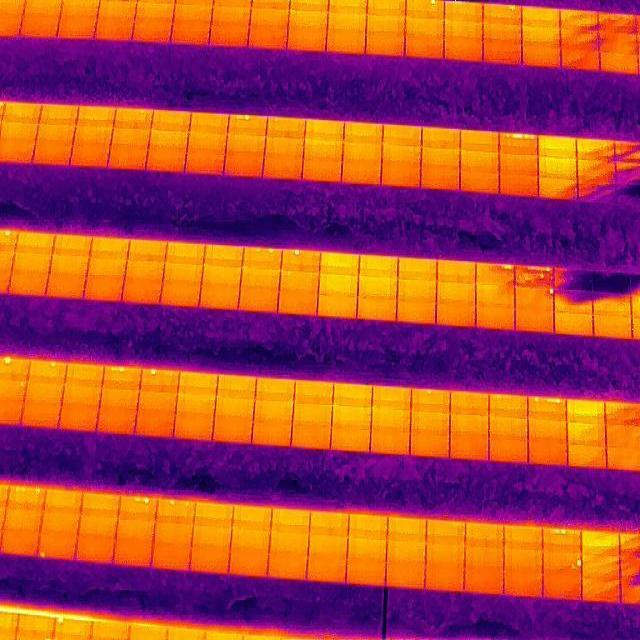Cell: (37, 532, 78, 558), (27, 357, 66, 382), (515, 285, 554, 309), (140, 368, 179, 392), (281, 250, 322, 272), (411, 390, 450, 412), (483, 2, 521, 24), (267, 118, 306, 138), (281, 272, 319, 292), (54, 620, 92, 640), (406, 0, 445, 19)
Cell-Multi: (4, 486, 45, 512), (543, 526, 582, 552), (475, 261, 515, 285), (515, 266, 555, 288), (118, 498, 158, 520), (156, 500, 196, 522), (102, 366, 140, 389), (543, 552, 582, 574), (529, 399, 567, 420), (499, 134, 538, 154), (242, 248, 281, 268)
No-Anomaly: (252, 420, 292, 448), (269, 550, 307, 579), (152, 542, 191, 570), (230, 546, 269, 574), (146, 148, 187, 174), (135, 412, 176, 438), (58, 12, 98, 38), (174, 414, 214, 440), (292, 422, 332, 448), (307, 552, 347, 578), (503, 572, 543, 598), (58, 403, 99, 428), (213, 418, 254, 443), (134, 16, 173, 42), (410, 432, 449, 458), (191, 545, 230, 571), (347, 559, 386, 585), (426, 566, 465, 592), (464, 568, 503, 594), (543, 574, 582, 600), (238, 288, 280, 312), (333, 383, 373, 408), (20, 402, 60, 427), (483, 40, 523, 65), (387, 562, 425, 588), (97, 408, 138, 432), (39, 510, 80, 534), (22, 11, 57, 39), (210, 20, 249, 45), (504, 525, 543, 550), (262, 156, 304, 179), (224, 152, 261, 178), (173, 18, 210, 44), (582, 530, 619, 556), (398, 256, 438, 280), (318, 294, 358, 318), (436, 302, 476, 326), (331, 428, 371, 452), (193, 502, 233, 526), (280, 290, 318, 315), (427, 520, 465, 545), (106, 148, 149, 170), (69, 146, 110, 169), (185, 151, 226, 174), (396, 301, 437, 324), (370, 431, 411, 454), (3, 511, 44, 534), (98, 14, 134, 40), (321, 251, 360, 275), (47, 275, 86, 299), (358, 298, 397, 322), (515, 310, 554, 334), (449, 435, 488, 459), (489, 438, 528, 462), (529, 440, 568, 464), (349, 515, 388, 539), (77, 536, 116, 560), (17, 615, 54, 640), (475, 306, 515, 329), (248, 26, 288, 49), (86, 276, 124, 300), (255, 380, 293, 404), (388, 518, 426, 542), (114, 540, 152, 564), (309, 512, 350, 534), (460, 151, 499, 174), (522, 6, 561, 29), (217, 376, 256, 399), (0, 531, 39, 554), (583, 556, 620, 580), (301, 160, 343, 181), (327, 12, 367, 34), (123, 280, 163, 302), (178, 373, 218, 395), (62, 383, 102, 405), (371, 408, 411, 430), (10, 271, 48, 294), (162, 281, 200, 304), (91, 238, 127, 262), (382, 164, 423, 185), (293, 382, 334, 403), (99, 389, 140, 410), (232, 507, 273, 528), (33, 146, 72, 168), (421, 166, 460, 188), (167, 243, 206, 265), (319, 274, 358, 296), (327, 32, 366, 54), (567, 445, 606, 467), (263, 138, 305, 158), (475, 285, 515, 306), (449, 394, 489, 415), (489, 397, 529, 418), (443, 39, 483, 60), (0, 123, 38, 145), (360, 255, 398, 277), (567, 400, 605, 422), (567, 424, 605, 446), (465, 525, 503, 547), (388, 543, 426, 565), (2, 102, 40, 124), (382, 126, 423, 146), (287, 10, 328, 30), (64, 365, 105, 385), (215, 398, 256, 418), (115, 520, 156, 540), (347, 538, 388, 558), (150, 111, 191, 131), (188, 114, 229, 134), (36, 125, 75, 146), (366, 15, 405, 36), (398, 280, 437, 301), (288, 30, 327, 51), (138, 392, 177, 413), (79, 494, 118, 515), (272, 510, 311, 531), (78, 515, 117, 536), (504, 550, 543, 571), (17, 232, 54, 254), (206, 244, 243, 266), (14, 252, 51, 274), (202, 288, 239, 310), (341, 164, 381, 184), (241, 268, 281, 288), (372, 388, 412, 408), (177, 395, 217, 415), (366, 36, 406, 56), (153, 522, 193, 542), (538, 159, 576, 180), (499, 175, 537, 196), (54, 235, 92, 256), (45, 490, 83, 511), (427, 545, 465, 566), (582, 580, 620, 601), (42, 105, 78, 127), (344, 124, 383, 144), (538, 139, 577, 159), (128, 242, 167, 262), (50, 255, 89, 275), (437, 262, 476, 282), (359, 276, 398, 296), (437, 282, 476, 302), (593, 316, 632, 336), (522, 28, 561, 48), (411, 412, 450, 432), (449, 415, 488, 435), (405, 39, 444, 59), (464, 548, 503, 568), (173, 0, 212, 20), (305, 121, 345, 140), (250, 8, 288, 28), (204, 268, 242, 288), (555, 314, 593, 334), (27, 382, 65, 402), (332, 408, 372, 427), (212, 0, 250, 20), (445, 1, 483, 21), (77, 109, 115, 129), (226, 136, 265, 155), (499, 155, 538, 174), (293, 405, 332, 424), (489, 418, 528, 437), (114, 110, 153, 129), (599, 32, 636, 52), (73, 128, 114, 146), (529, 421, 567, 440), (110, 127, 150, 145), (303, 141, 343, 159), (382, 146, 422, 164), (164, 264, 204, 282), (443, 20, 483, 38), (191, 527, 231, 545), (230, 528, 270, 546), (460, 134, 499, 152), (343, 144, 382, 162), (308, 535, 347, 553), (522, 48, 561, 66), (422, 131, 460, 149), (406, 18, 444, 36), (126, 262, 164, 280), (270, 532, 308, 550), (460, 174, 499, 191), (422, 149, 460, 166), (253, 402, 293, 418), (89, 259, 126, 276), (149, 132, 188, 148), (187, 134, 226, 150), (601, 54, 637, 71), (136, 0, 174, 16), (482, 25, 522, 40)
Shadowing: (593, 292, 631, 316), (561, 50, 600, 72), (555, 290, 593, 312), (560, 10, 600, 30), (577, 140, 616, 160), (577, 161, 616, 181), (538, 180, 577, 200), (554, 269, 593, 289), (593, 272, 631, 292), (560, 31, 600, 50), (600, 13, 637, 32), (577, 181, 615, 199)
Unclassified: (228, 114, 267, 136)
